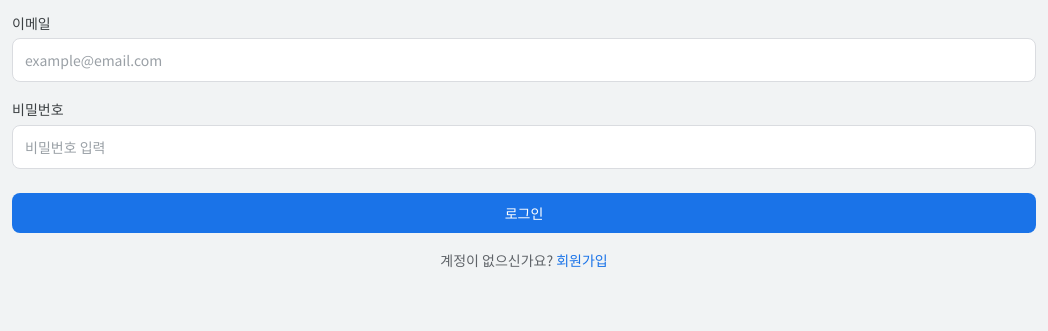
Scenario: LoginForm › 잘못된 이메일 형식 입력 시 에러가 표시된다
Type "notanemail" into the field labelled "이메일" at x=524, y=60, box [12,38,1036,82]
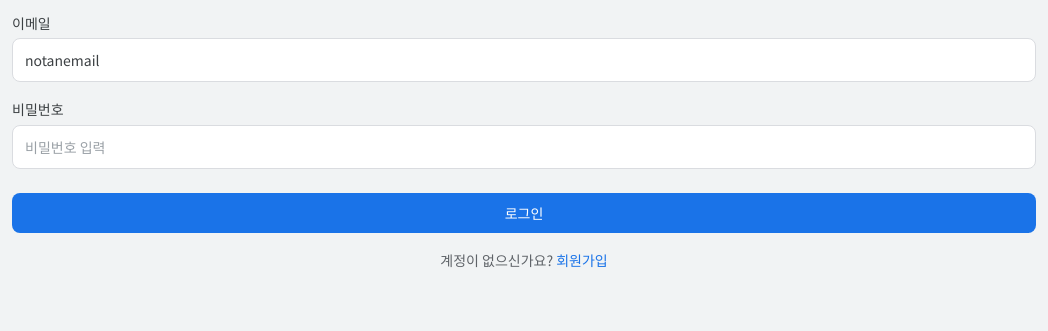
Click the button "로그인" at x=524, y=213, box [12,193,1036,233]
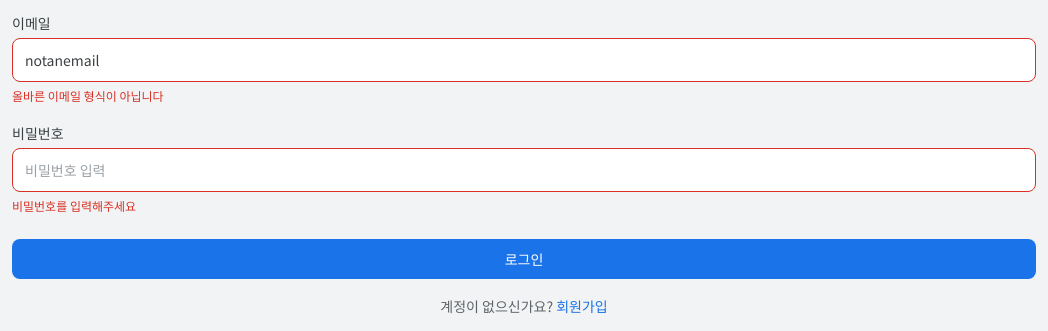
expect the text "올바른 이메일 형식이 아닙니다" is shown: met, box [12,87,164,104]
